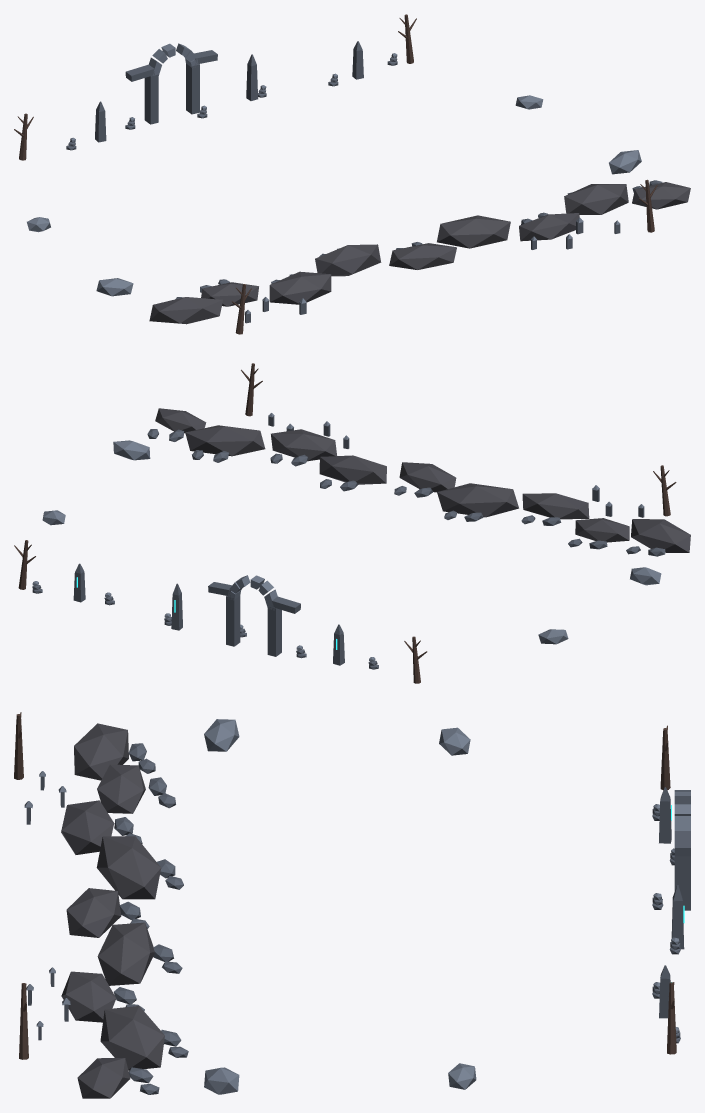
The model's file is ashen_exterior_dressing_v1.glb.
The picture shows the model from 3 angles, top to bottom: view 1: azimuth 30°, elevation 25°; view 2: azimuth 150°, elevation 25°; view 3: azimuth 270°, elevation 25°; orthographic projection. The views are drawn at different scales.
Parts seen in each view (by area): view 1: EXT_SouthCliff_05, EXT_SouthCliff_07, EXT_SouthCliff_02, EXT_SouthCliff_03, EXT_SouthCliff_00, EXT_SouthCliff_04, EXT_SouthCliff_06, EXT_SouthCliff_08, EXT_SouthCliff_01, EXT_Viaduct_LeftPier, EXT_Viaduct_RightPier, EXT_SideScarp_East_00 (+1 smaller); view 2: EXT_SouthCliff_03, EXT_SouthCliff_07, EXT_SouthCliff_05, EXT_SouthCliff_00, EXT_SouthCliff_06, EXT_SouthCliff_02, EXT_SouthCliff_04, EXT_SouthCliff_01, EXT_SouthCliff_08, EXT_Viaduct_RightPier, EXT_Viaduct_LeftPier, EXT_SideScarp_East_00; view 3: EXT_SouthCliff_03, EXT_SouthCliff_07, EXT_SouthCliff_05, EXT_SouthCliff_00, EXT_SouthCliff_02, EXT_SouthCliff_04, EXT_SouthCliff_06, EXT_SouthCliff_01, EXT_SouthCliff_08, EXT_SideScarp_West_00, EXT_SideScarp_East_00, EXT_Viaduct_RightPier (+5 smaller).
Part boxes in pixels (x1,y1,x2,y2): EXT_SouthCliff_05: (437,215,510,248); EXT_SouthCliff_07: (564,184,628,214); EXT_SouthCliff_02: (269,271,331,304); EXT_SouthCliff_03: (315,244,381,276); EXT_SouthCliff_00: (149,297,222,324); EXT_SouthCliff_04: (389,243,456,269); EXT_SouthCliff_06: (519,213,579,241); EXT_SouthCliff_08: (632,182,690,209); EXT_SouthCliff_01: (201,282,258,306); EXT_Viaduct_LeftPier: (144,74,158,124); EXT_Viaduct_RightPier: (186,63,199,114); EXT_SideScarp_East_00: (609,150,641,174); EXT_SouthCliff_03: (437,483,518,517); EXT_SouthCliff_07: (185,425,265,456); EXT_SouthCliff_05: (319,455,386,484); EXT_SouthCliff_00: (631,519,690,552); EXT_SouthCliff_06: (271,429,336,461); EXT_SouthCliff_02: (522,493,589,519); EXT_SouthCliff_04: (399,462,456,492); EXT_SouthCliff_01: (575,518,629,542); EXT_SouthCliff_08: (155,408,206,433); EXT_Viaduct_RightPier: (226,595,240,646); EXT_Viaduct_LeftPier: (267,607,281,656); EXT_SideScarp_East_00: (113,440,150,460); EXT_SouthCliff_03: (96,836,161,899); EXT_SouthCliff_07: (100,1006,164,1070); EXT_SouthCliff_05: (97,922,154,985); EXT_SouthCliff_00: (74,723,128,780); EXT_SouthCliff_02: (61,800,114,854); EXT_SouthCliff_04: (66,888,121,937); EXT_SouthCliff_06: (61,971,116,1022); EXT_SouthCliff_01: (97,764,145,813); EXT_SouthCliff_08: (77,1058,130,1098); EXT_SideScarp_West_00: (204,719,239,751); EXT_SideScarp_East_00: (204,1067,239,1094); EXT_Viaduct_RightPier: (674,856,690,910).
Bounding box in the file's own units: 69.96 × 9.59 × 54.03.
